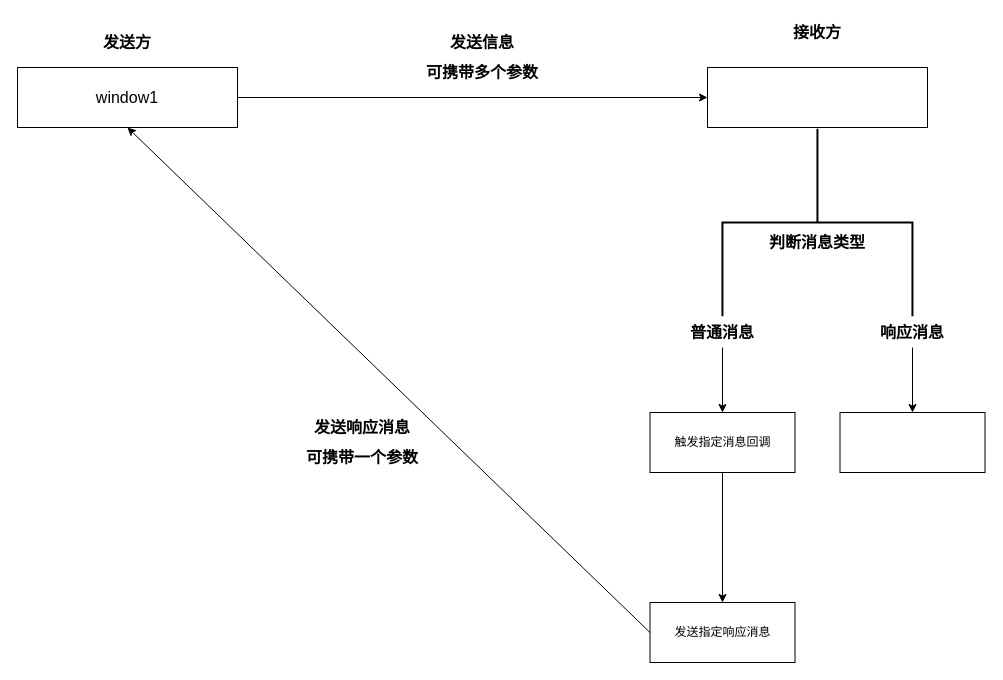
This 1003x680 diagram has some shape labels left out. The shapes that lost their labels are listed below. From the top down, each one's centre as x and y in pixels, then its label:
At point (817, 97): "window2".
At point (912, 442): "触发响应消息回调".
